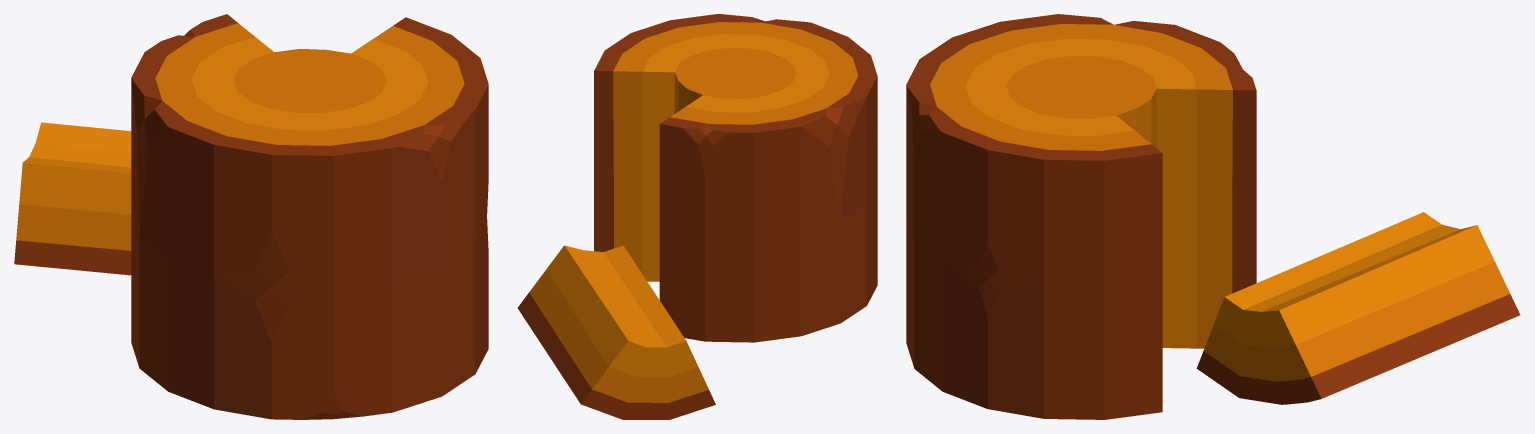
The model's file is Tree log_2.fbx.
The picture shows the model from 3 angles, left to right: view 1: azimuth 30°, elevation 25°; view 2: azimuth 150°, elevation 25°; view 3: azimuth 270°, elevation 25°; orthographic projection. The views are drawn at different scales.
Visible parts, largest first — view 1: Circle.042, Circle.044; view 2: Circle.042, Circle.044; view 3: Circle.042, Circle.044.
Part boxes in pixels (x1,y1,x2,y2): Circle.042: (131,14,488,419); Circle.044: (14,122,131,275); Circle.042: (594,14,877,342); Circle.044: (517,245,715,419); Circle.042: (906,14,1256,419); Circle.044: (1196,212,1520,404).
Bounding box in the file's own units: 23.35 × 20.33 × 41.28.
